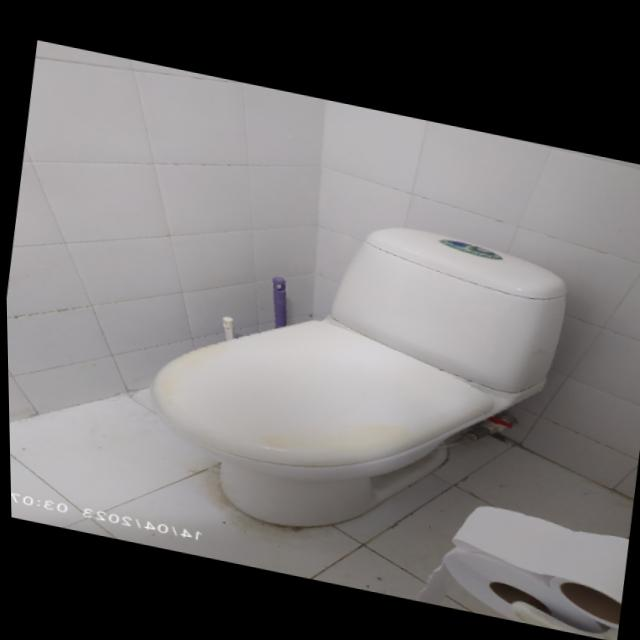toilet: (128, 174, 578, 573)
